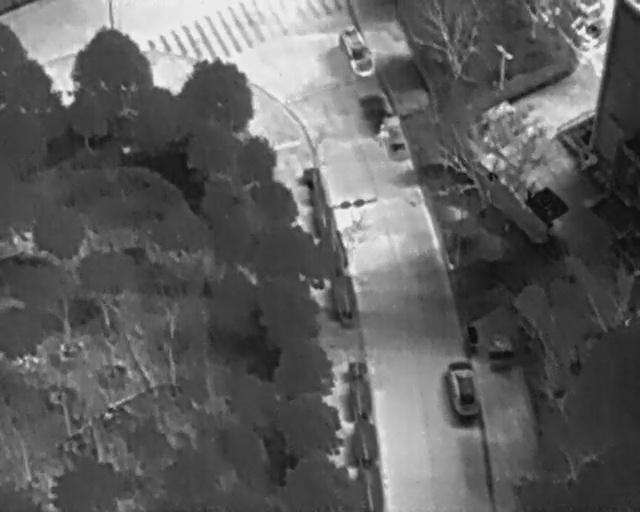Car: (439, 356, 484, 426), (333, 23, 383, 83), (375, 113, 413, 166)
